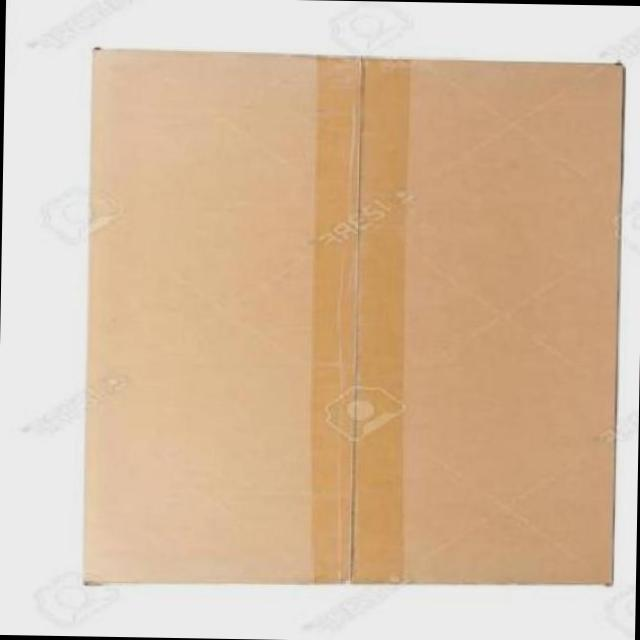box: (81, 45, 627, 588)
